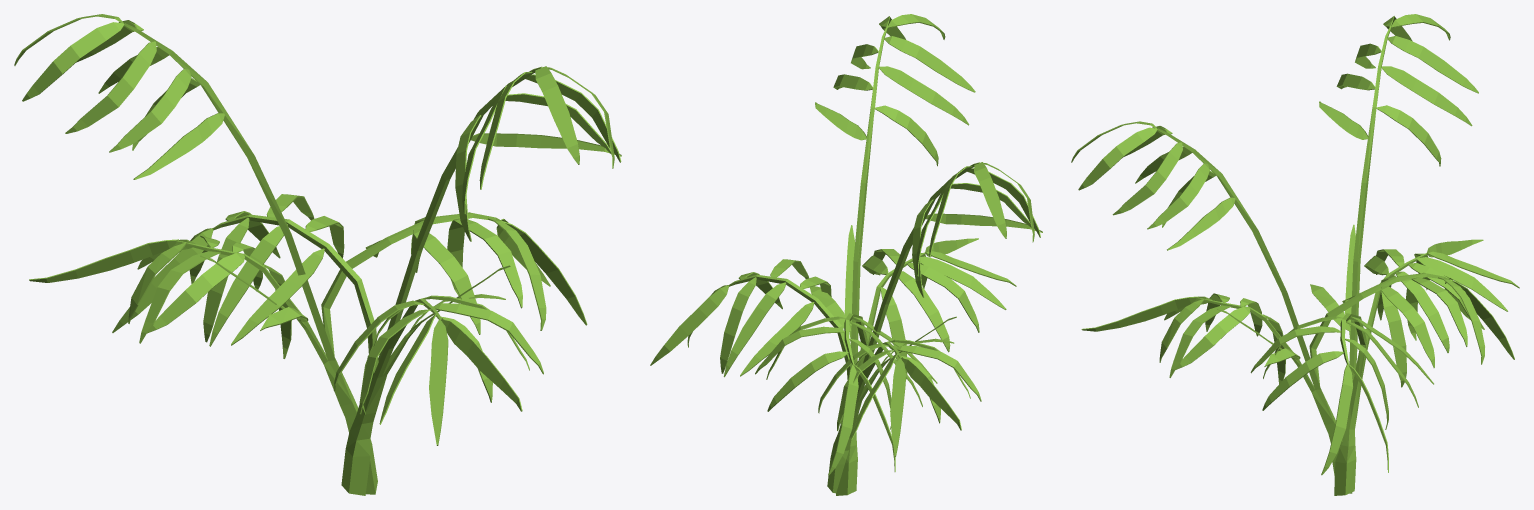
Rendered from fern_plant._fixed.glb.
3 views of the same model, side by side, from view 1: azimuth 30°, elevation 25°; view 2: azimuth 150°, elevation 25°; view 3: azimuth 270°, elevation 25° (orthographic). The views are drawn at different scales.
Visible parts, largest first — view 1: group492173252.001; view 2: group492173252.001; view 3: group492173252.001.
Boxes of the visible parts, x1,y1,x2,y2 form: group492173252.001: [14, 14, 621, 495]; group492173252.001: [650, 14, 1042, 495]; group492173252.001: [1071, 14, 1519, 495].
Size of the model in its own units: 1.81 by 1.71 by 1.77.
